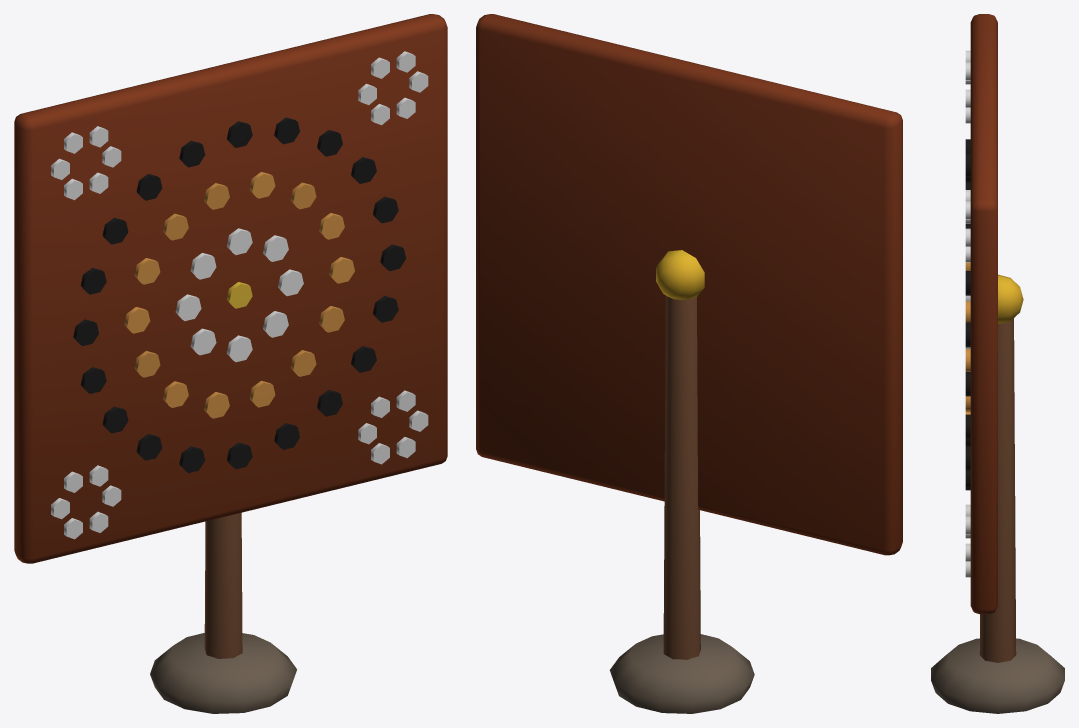
File: fe-ochre.glb
3 views of the same model, side by side, from view 1: azimuth 30°, elevation 25°; view 2: azimuth 150°, elevation 25°; view 3: azimuth 270°, elevation 25° (orthographic). The views are drawn at different scales.
Visible parts, largest first — view 1: fe-ochre; view 2: fe-ochre; view 3: fe-ochre.
Boxes of the visible parts, box(x1,y1,x2,y2) form: fe-ochre: box(14, 14, 447, 713); fe-ochre: box(476, 14, 902, 713); fe-ochre: box(931, 14, 1064, 713).
Size of the model in its own units: 1 by 1.4 by 0.2925.
